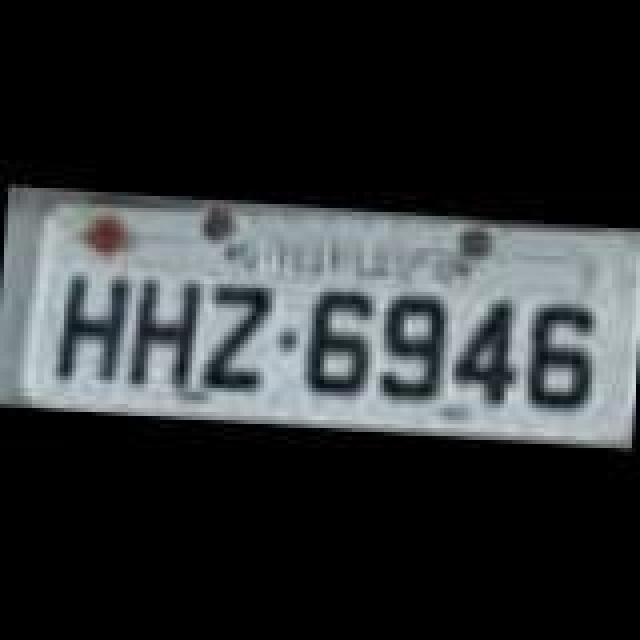4: (452, 296, 524, 408)
6: (522, 304, 598, 416), (302, 292, 378, 396)
9: (380, 296, 452, 400)
H: (54, 270, 130, 386), (130, 278, 206, 394)
Z: (206, 284, 274, 396)
